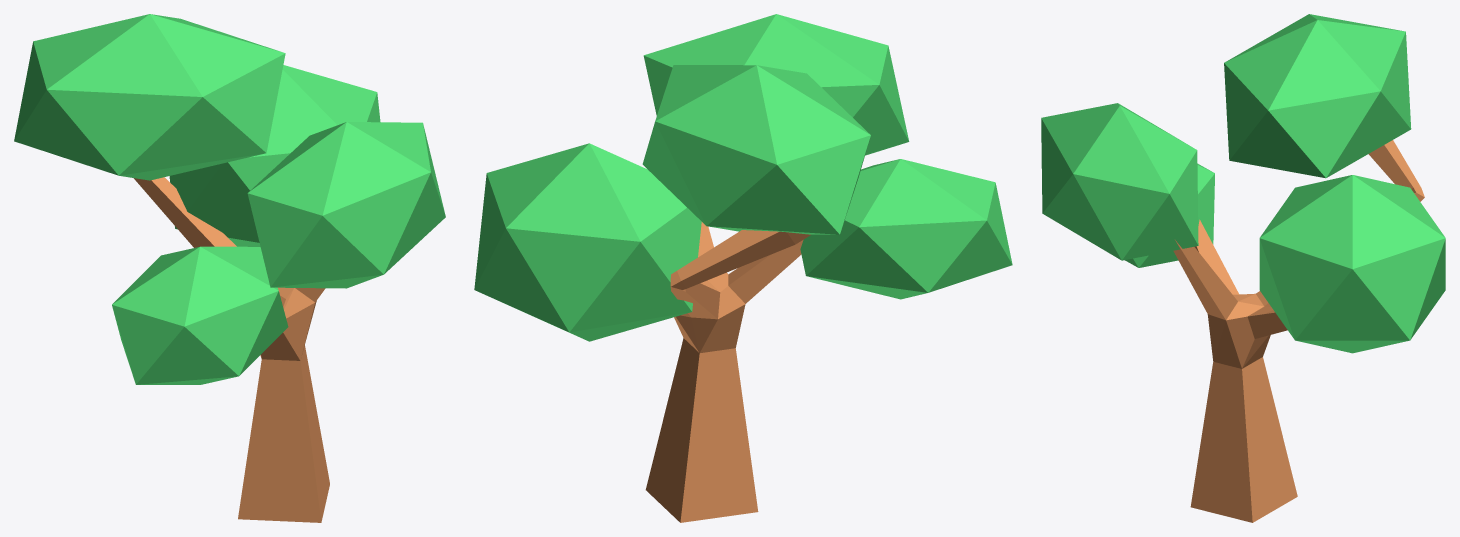
File: low-ploy_tree.glb
3 views of the same model, side by side, from view 1: azimuth 30°, elevation 25°; view 2: azimuth 150°, elevation 25°; view 3: azimuth 270°, elevation 25° (orthographic). The views are drawn at different scales.
Parts seen in each view (by area): view 1: Icosphere.001, Icosphere.002, Icosphere.003, Cube, Icosphere; view 2: Icosphere, Icosphere.001, Cube, Icosphere.003, Icosphere.002; view 3: Icosphere, Icosphere.001, Cube, Icosphere.002, Icosphere.003.
Part boxes in pixels (<box>): Icosphere.001: <box>14,14,285,180</box>; Icosphere.002: <box>247,122,445,288</box>; Icosphere.003: <box>112,246,288,384</box>; Cube: <box>133,177,329,522</box>; Icosphere: <box>169,65,380,246</box>; Icosphere: <box>474,143,701,341</box>; Icosphere.001: <box>642,65,870,234</box>; Cube: <box>645,222,810,522</box>; Icosphere.003: <box>800,159,1012,299</box>; Icosphere.002: <box>643,14,909,155</box>; Icosphere: <box>1259,175,1445,353</box>; Icosphere.001: <box>1224,14,1411,178</box>; Cube: <box>1173,140,1424,522</box>; Icosphere.002: <box>1041,103,1198,260</box>; Icosphere.003: <box>1125,163,1214,267</box>.
Bounding box in the file's own units: 5.59 × 6.8 × 5.65.
